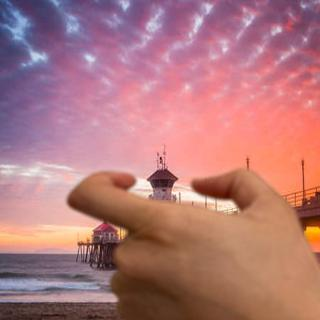HATE: (59, 155, 320, 320)
